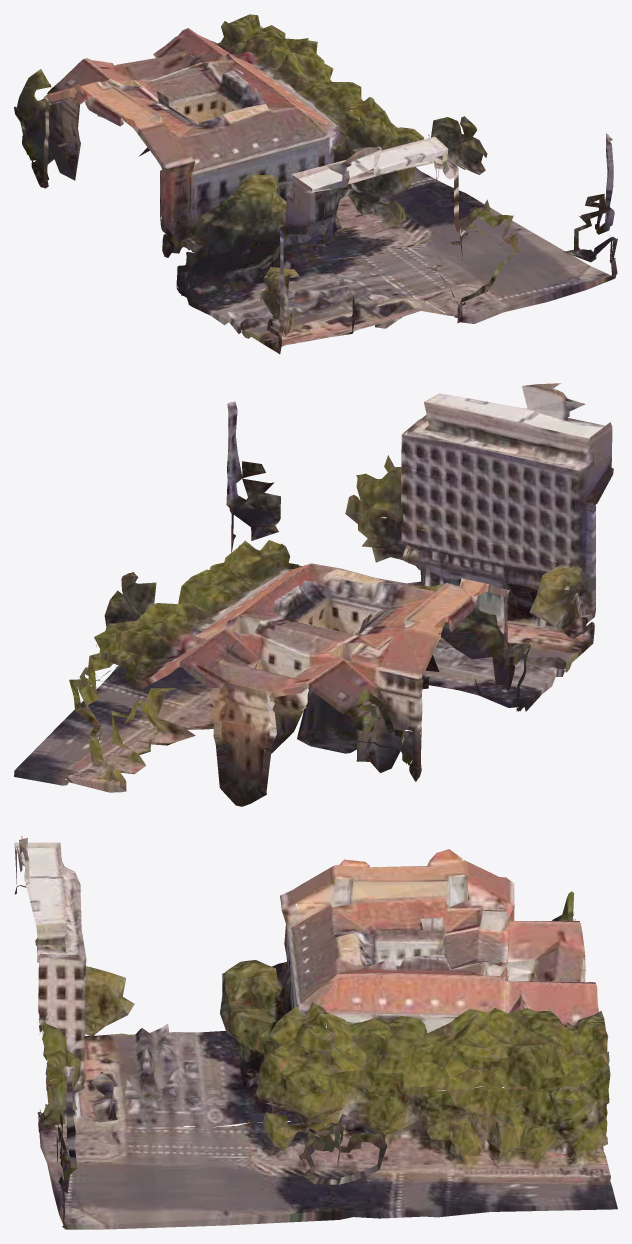
3 renders of one model, top to bottom at view 1: azimuth 30°, elevation 25°; view 2: azimuth 150°, elevation 25°; view 3: azimuth 270°, elevation 25°, orthographic. The views are drawn at different scales.
Parts seen in each view (by area): view 1: Mesh_0; view 2: Mesh_0; view 3: Mesh_0.
Boxes of the visible parts, x1,y1,x2,y2 form: Mesh_0: [14, 14, 617, 354]; Mesh_0: [14, 383, 613, 806]; Mesh_0: [14, 836, 617, 1229].
Bounding box in the file's own units: 67.51 × 37.68 × 82.67.
2 materials, 2 textured.
